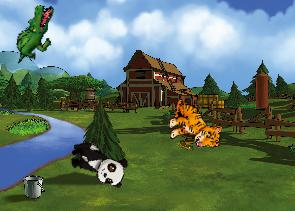crocodile: (15, 3, 54, 64)
panda: (64, 137, 131, 190)
tiger: (165, 98, 225, 150)
